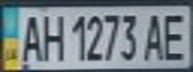1: (66, 11, 87, 62)
2: (84, 11, 106, 62)
3: (118, 11, 142, 62)
7: (103, 11, 121, 62)
A: (15, 10, 45, 62), (139, 10, 169, 62)
E: (160, 9, 193, 62)
H: (39, 11, 66, 62)
